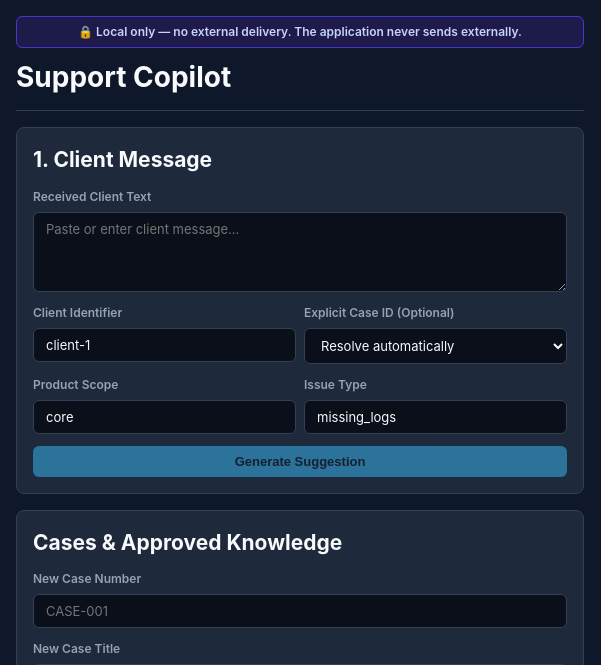
Test: Desktop Overlay App Component › renders ambiguous case state when case reference is ambiguous
Type "Status of my case?" into the text box labelled "Received Client Text".
click(300, 252); type("Status of my case?")  # box [33,212,567,292]
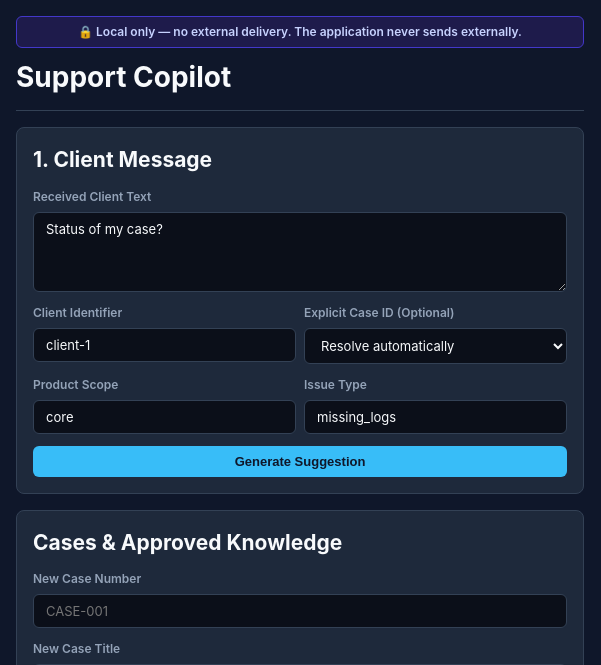
Click the button "Generate Suggestion".
click(300, 461)  # box [33,446,567,476]
(page scrolled)
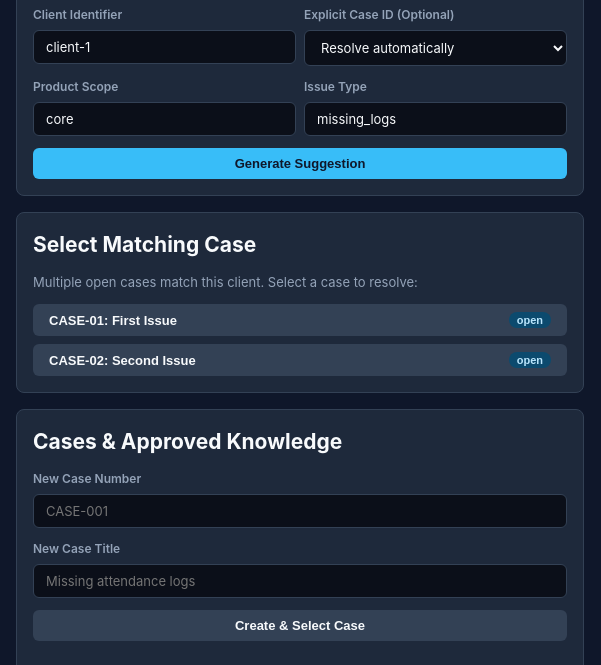
Result: the heading "Select Matching Case" is shown at [33,232,256,257]
Result: the text "CASE-01" is shown at [49,312,104,328]
Result: the text "CASE-02" is shown at [49,352,104,368]
